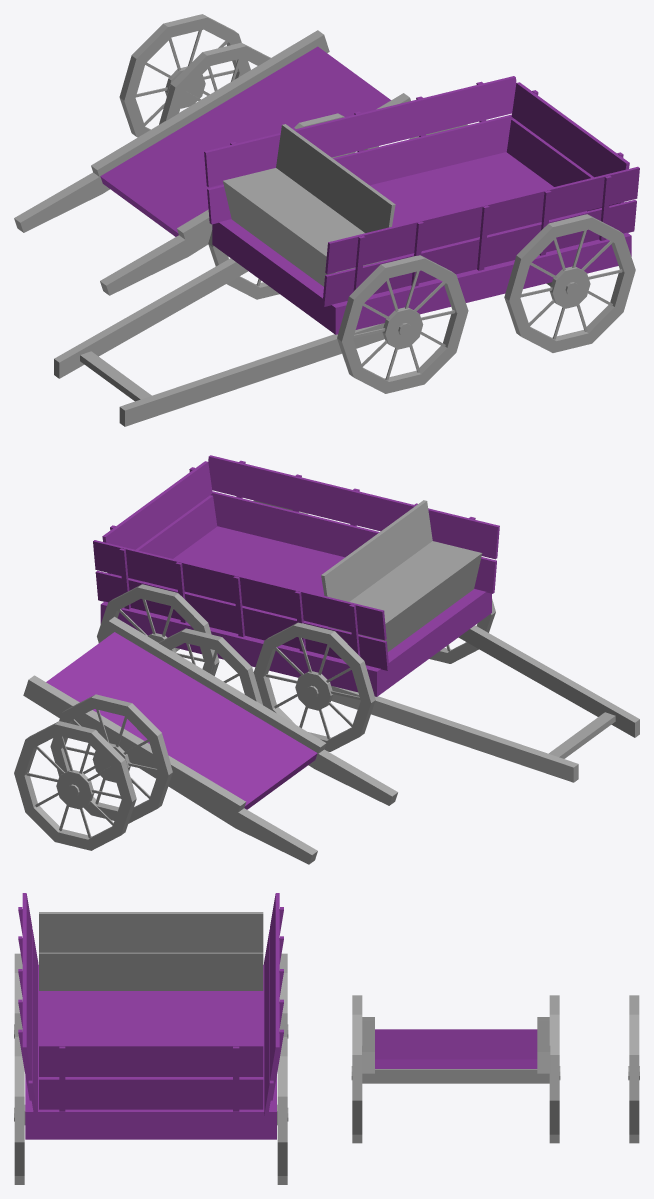
File: Carriages+wheel.fbx
3 views of the same model, one above another, from view 1: azimuth 30°, elevation 25°; view 2: azimuth 150°, elevation 25°; view 3: azimuth 270°, elevation 25° (orthographic). The views are drawn at different scales.
Visible parts, largest first — view 1: BigCarriage, SmallCarriage, Wheel; view 2: BigCarriage, SmallCarriage, Wheel; view 3: BigCarriage, SmallCarriage, Wheel.
Boxes of the visible parts, <box> form: BigCarriage: <box>54,76,639,426</box>; SmallCarriage: <box>14,30,410,295</box>; Wheel: <box>119,14,250,137</box>; BigCarriage: <box>93,455,639,782</box>; SmallCarriage: <box>23,616,397,864</box>; Wheel: <box>14,721,136,850</box>; BigCarriage: <box>14,893,288,1184</box>; SmallCarriage: <box>351,995,560,1143</box>; Wheel: <box>628,995,639,1143</box>.
Bounding box in the file's own units: 351 × 121 × 381.
